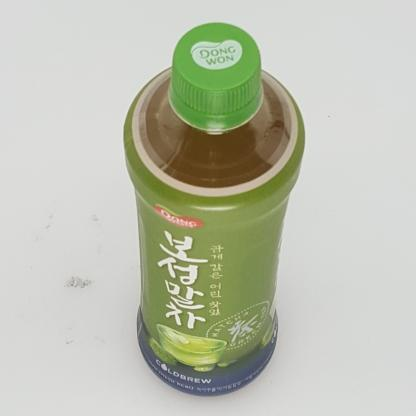------500ML: (123, 23, 305, 397)
